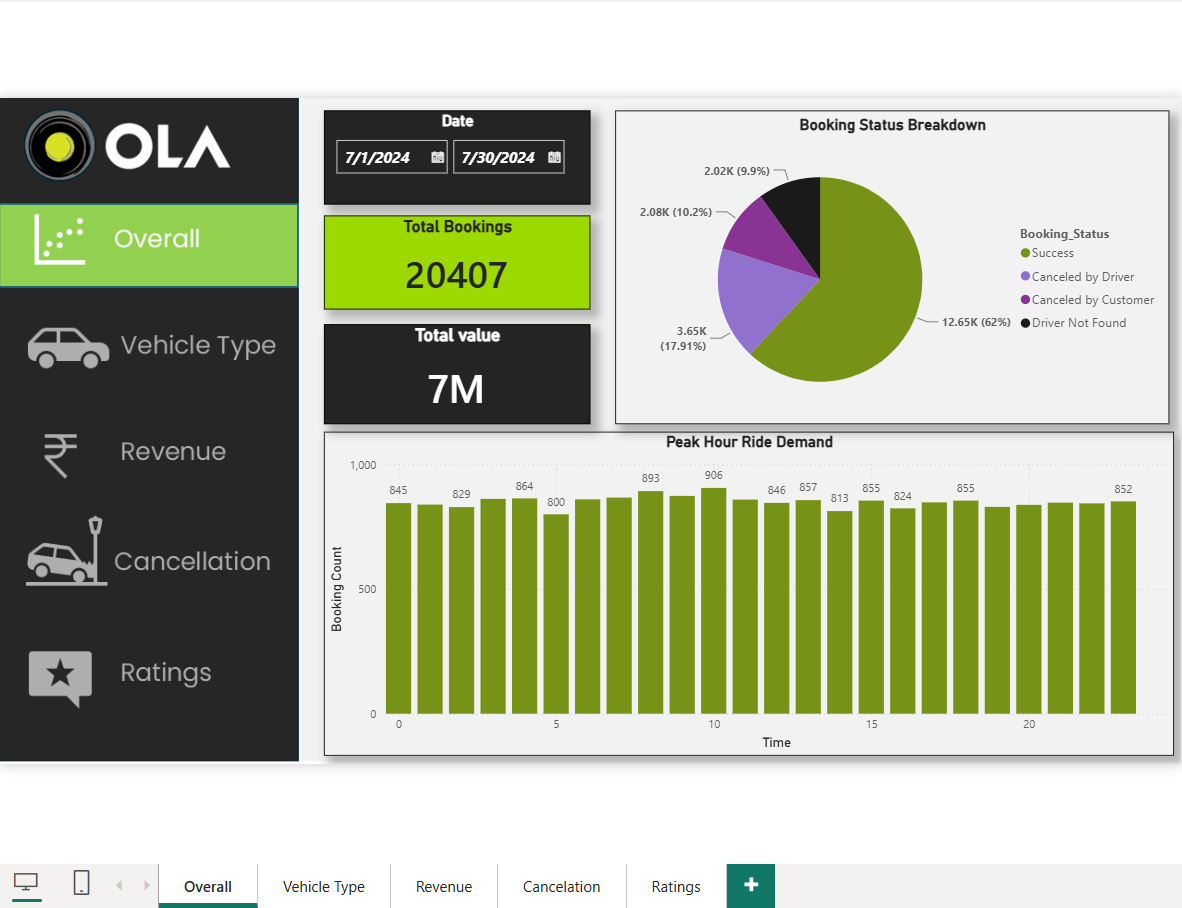

Layout of this report page (visuals, bound fields, positions):
{"tool":"powerbi","page":{"name":"Overall","canvas":[1280,720],"ordinal":0},"visuals":[{"type":"columnChart","title":"Peak Hour Ride Demand","fields":{"Category":["ola bookings.hour"],"Y":["CountNonNull(ola bookings.Booking_ID)"]},"box":[351.5,361,919.3,350.1],"z":0},{"type":"actionButton","box":[0,214.1,323.8,97.4],"z":1000},{"type":"actionButton","box":[0,109.8,323.8,93.3],"z":2000},{"type":"actionButton","box":[0,337.6,323.8,91.9],"z":3000},{"type":"actionButton","box":[0,444.6,323.8,91.9],"z":4000},{"type":"actionButton","box":[0,580.4,323.8,91.9],"z":5000},{"type":"pieChart","title":"Booking Status Breakdown","fields":{"Category":["ola bookings.Booking_Status"],"Y":["CountNonNull(ola bookings.Booking_ID)"]},"box":[666.5,13.5,598.9,339.3],"z":6000},{"type":"slicer","title":"Date","fields":{"Values":["ola bookings.Date"]},"box":[351.5,13.5,288,101.4],"z":7000},{"type":"cardVisual","title":"Total Bookings","fields":{"Data":["CountNonNull(ola bookings.Booking_ID)"]},"box":[351.5,127.1,288,101.4],"z":8000},{"type":"cardVisual","title":"Total value","fields":{"Data":["Sum(ola bookings.Booking_Value)"]},"box":[351.5,244.7,288,108.2],"z":9000}]}

Visuals, with their boxes on the page's 1280x720 design canvas (x1, y1, x2, y2). These are canvas units, not pixel positions in the 1182x908 screenshot, which may show the page scaled, cropped or inside an application window:
"Peak Hour Ride Demand" columnChart: <box>352,361,1271,711</box>
actionButton: <box>0,214,324,312</box>
actionButton: <box>0,110,324,203</box>
actionButton: <box>0,338,324,430</box>
actionButton: <box>0,445,324,536</box>
actionButton: <box>0,580,324,672</box>
"Booking Status Breakdown" pieChart: <box>666,14,1265,353</box>
"Date" slicer: <box>352,14,640,115</box>
"Total Bookings" cardVisual: <box>352,127,640,228</box>
"Total value" cardVisual: <box>352,245,640,353</box>
